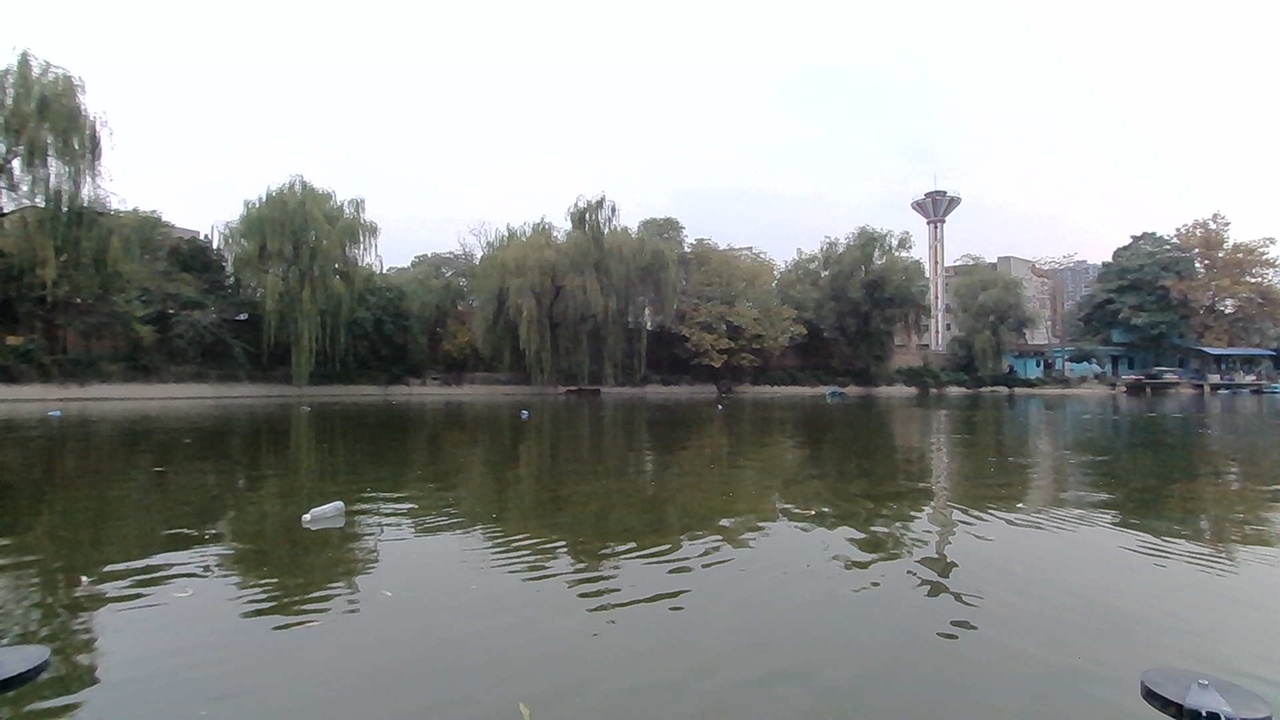bottle: (298, 501, 357, 530), (514, 404, 545, 422)
